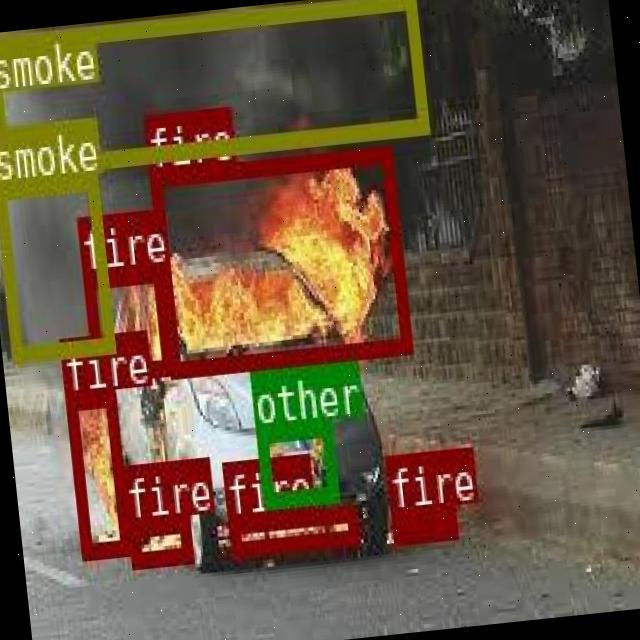fire: (148, 144, 408, 376), (63, 388, 130, 556), (80, 263, 170, 382), (226, 503, 358, 552), (126, 513, 192, 566), (390, 506, 454, 540)
smoke: (0, 0, 426, 174), (0, 172, 114, 360)
